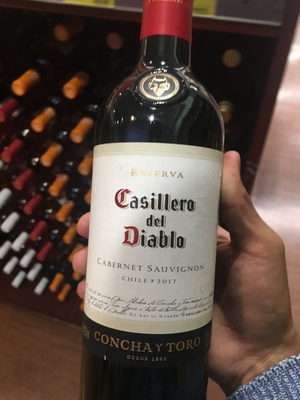casillero del diablo cabernet sauvignon: (80, 9, 218, 400)
